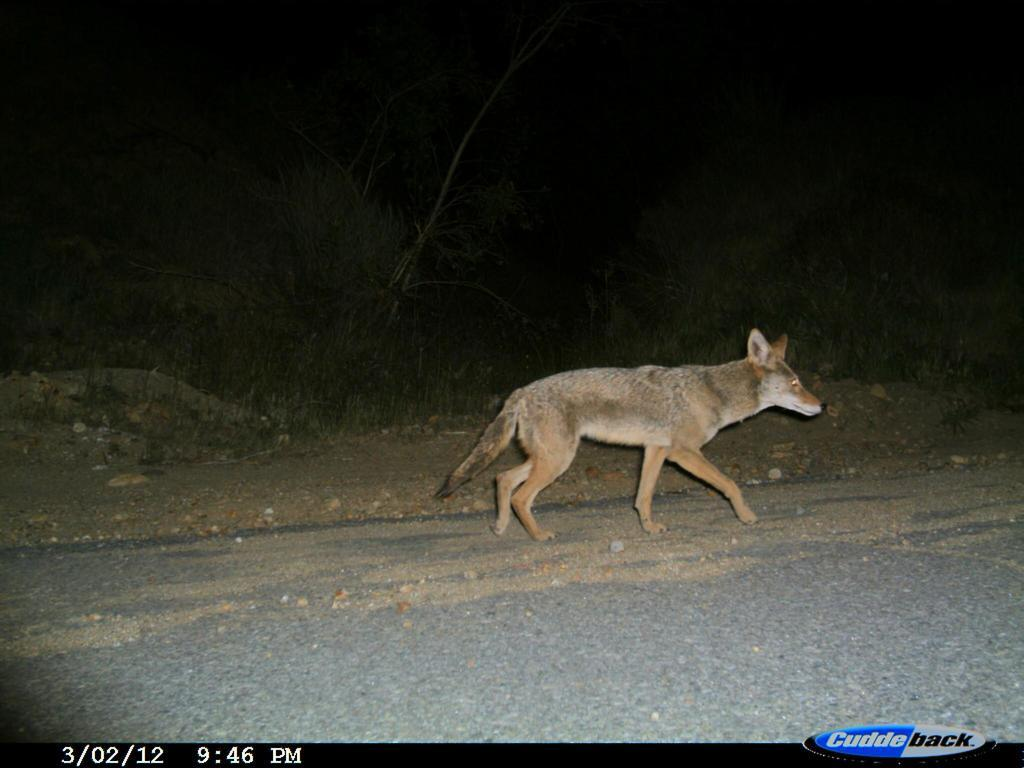coyote: (424, 324, 831, 547)
